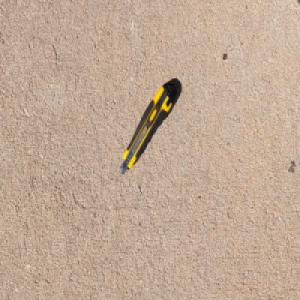Cutter: (119, 80, 178, 176)
